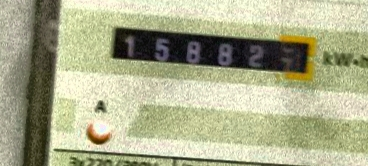1: (123, 32, 139, 58)
2: (248, 41, 267, 68)
5: (153, 35, 172, 61)
7: (279, 53, 294, 71)
8: (184, 38, 204, 63), (216, 39, 235, 65)
screen: (97, 10, 328, 90)
